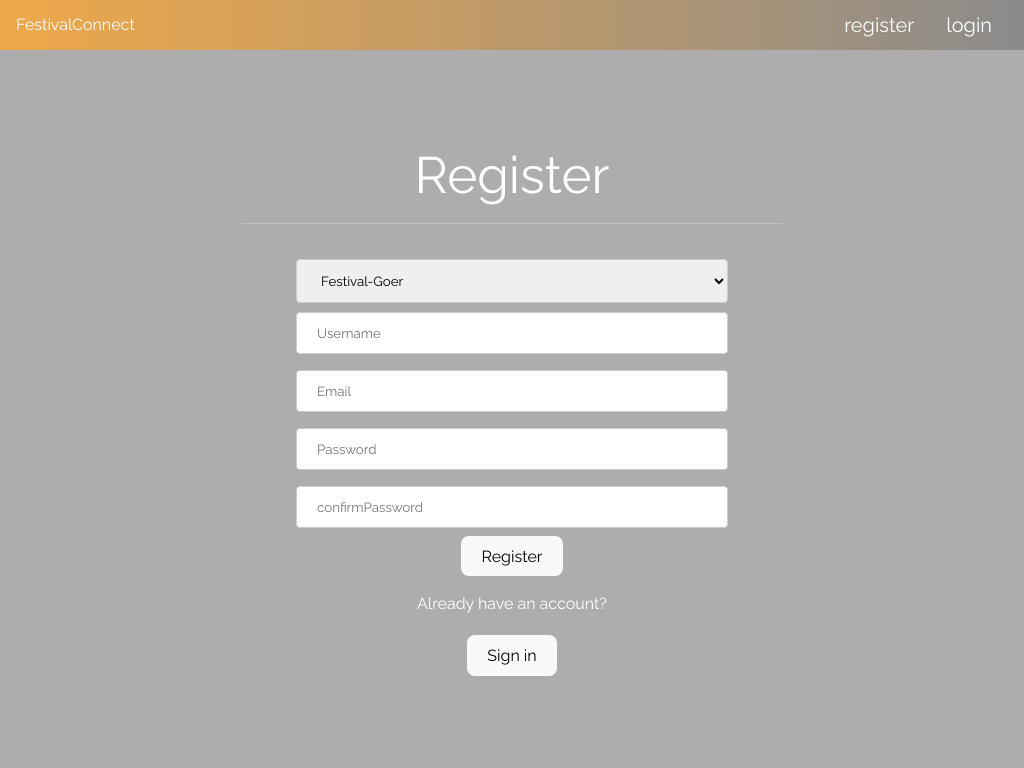
Test: Register Input Fields › displays error message if passwords do not match
The width and height of the screenshot is (1024, 768).
Type "testuser" into the field named "username" at (512, 333), box [296,312,728,354]
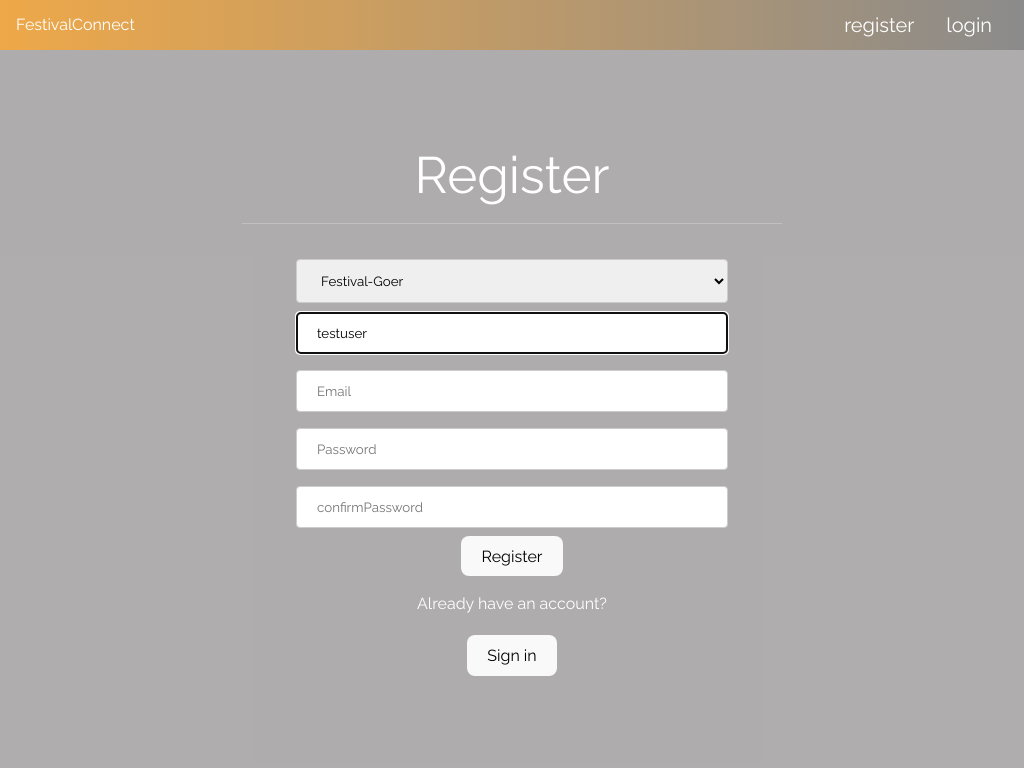
Type "test@example.com" into the field named "email" at (512, 391), box [296,370,728,412]
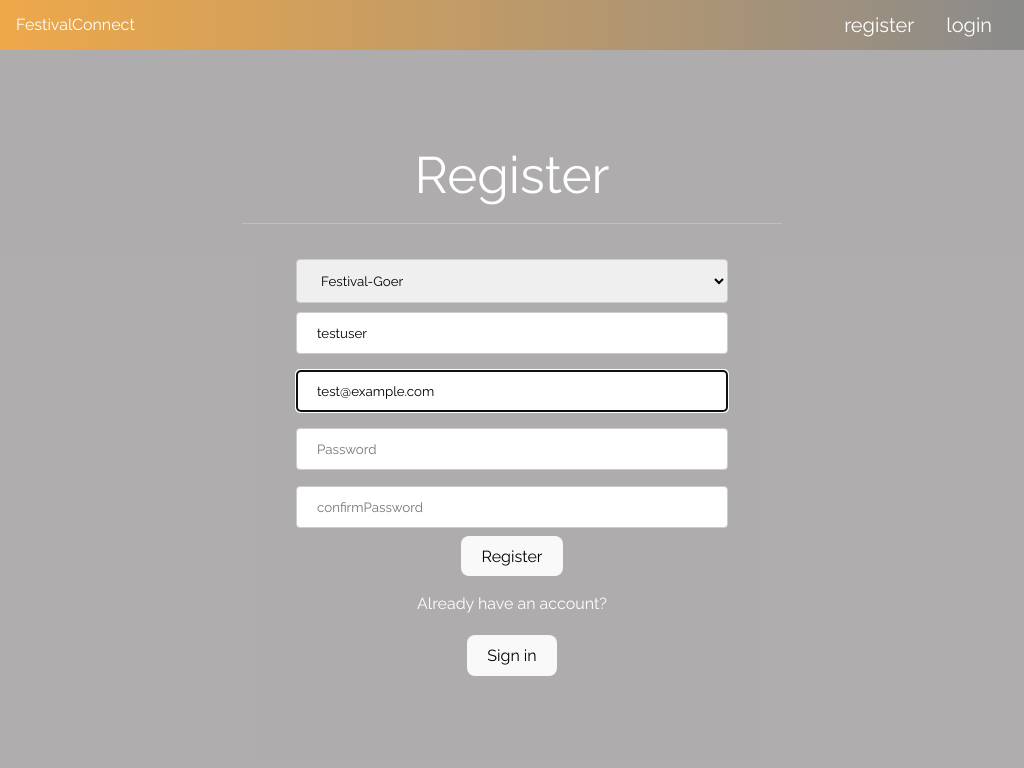
Type "password123" into the password field named "password" at (512, 449), box [296,428,728,470]
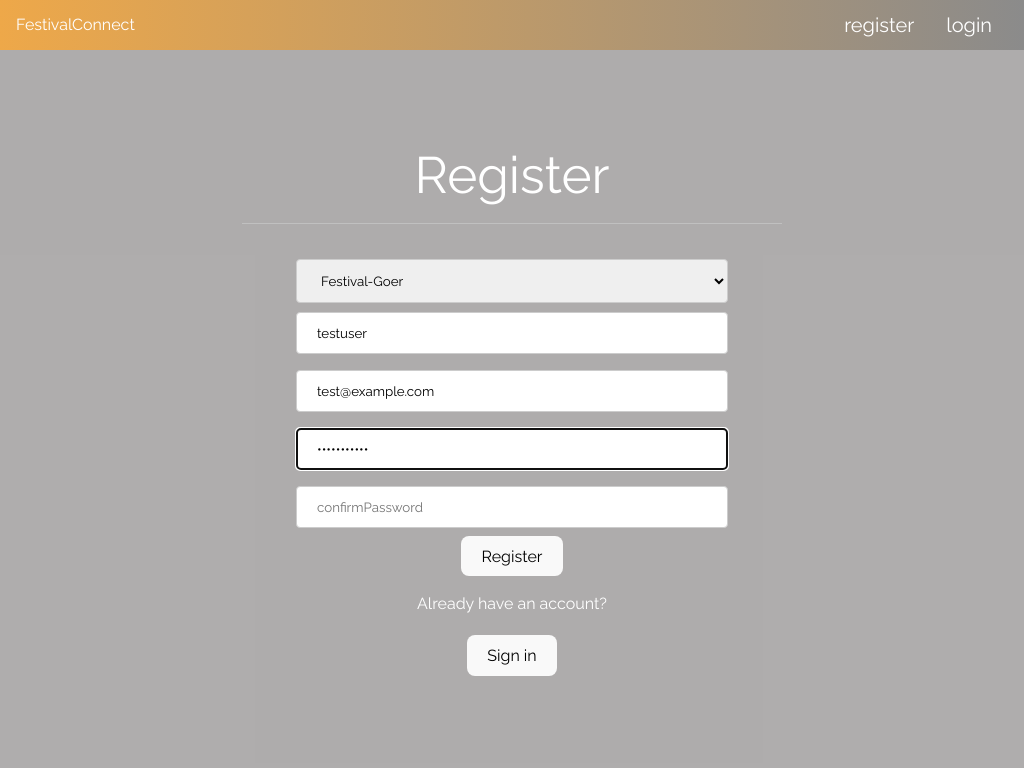
Type "differentpassword" into the password field named "confirmPassword" at (512, 507), box [296,486,728,528]
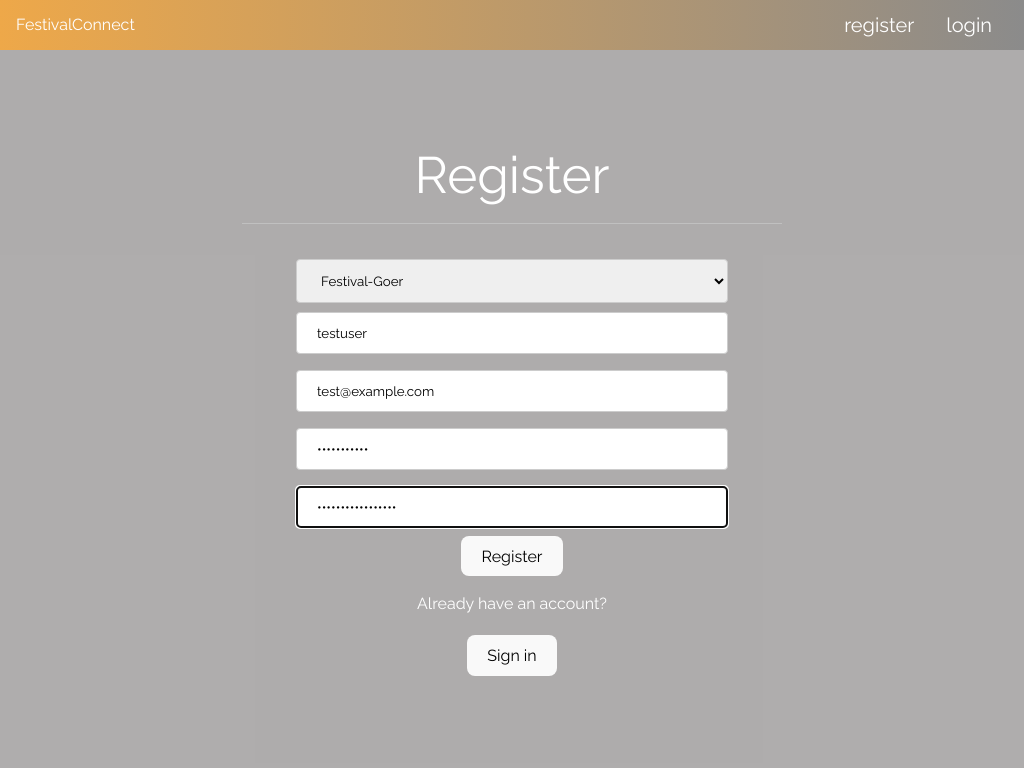
Click the submit button at (512, 556), box [461,536,562,576]
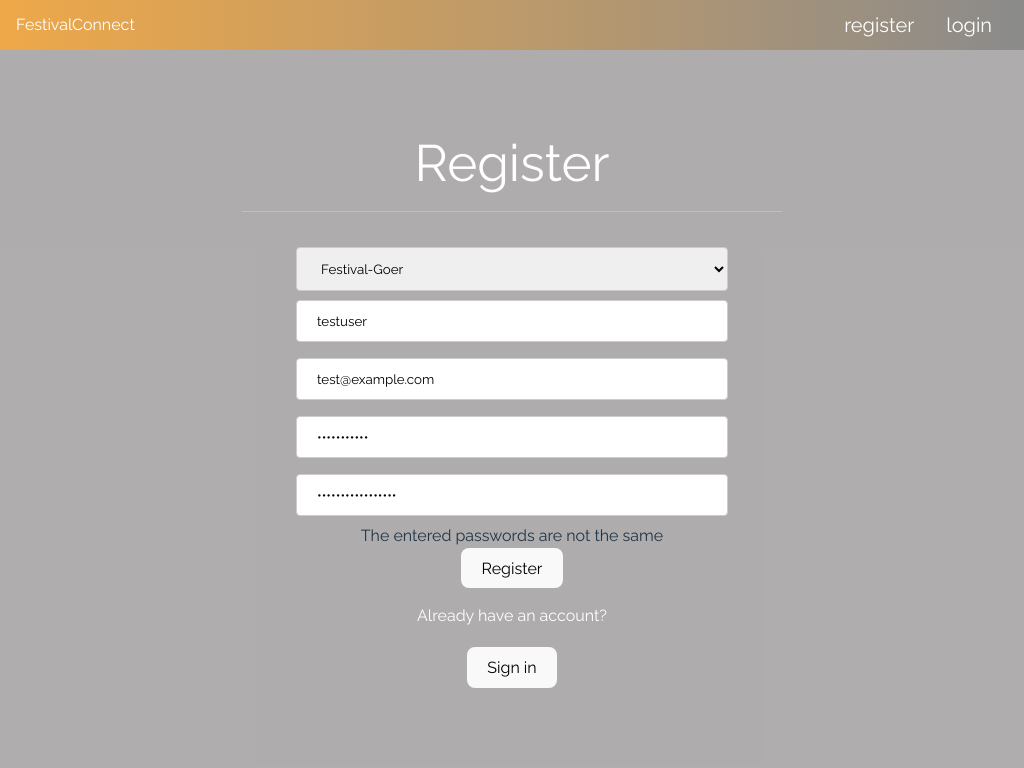
Now the text with id "error" reads "The entered passwords are not the same", box [361,526,663,545]
